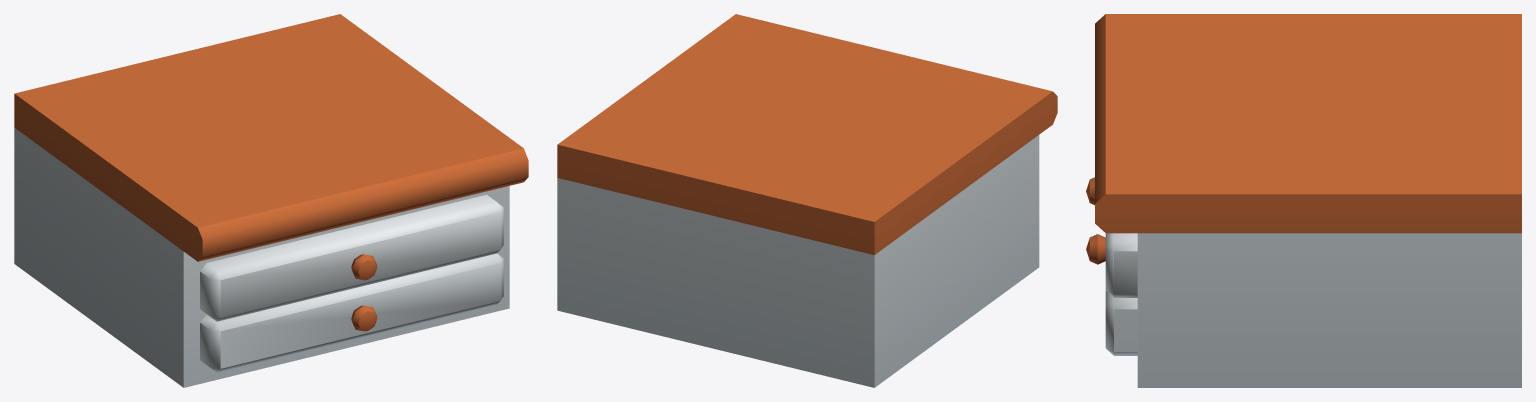
The model's file is kay-kitchencounter_straight_a.glb.
3 views of the same model, side by side, from view 1: azimuth 30°, elevation 25°; view 2: azimuth 150°, elevation 25°; view 3: azimuth 270°, elevation 25° (orthographic). The views are drawn at different scales.
Parts seen in each view (by area): view 1: kitchencounter_straight_A; view 2: kitchencounter_straight_A; view 3: kitchencounter_straight_A.
Boxes of the visible parts, x1,y1,x2,y2 form: kitchencounter_straight_A: (14,14,528,387); kitchencounter_straight_A: (557,14,1057,387); kitchencounter_straight_A: (1086,14,1521,387).
Bounding box in the file's own units: 1.18 × 0.5877 × 1.2.
1 material, 1 textured.
